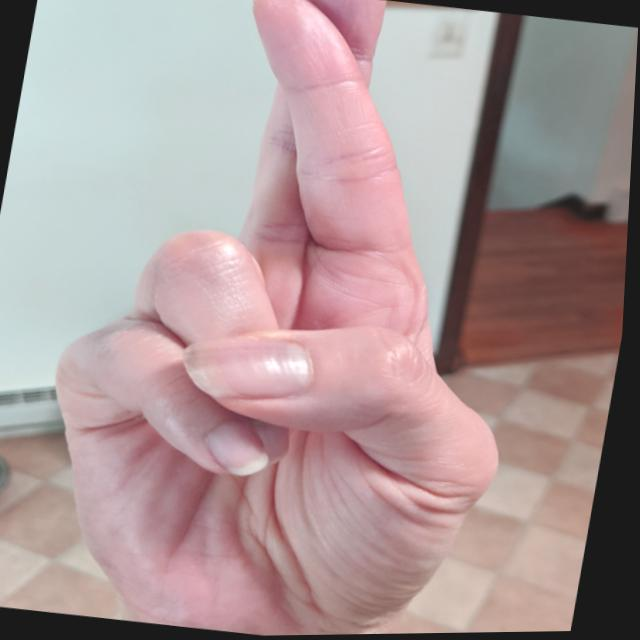R: (12, 0, 590, 639)
